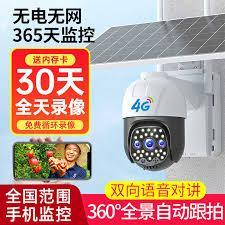maru: (120, 111, 191, 175)
